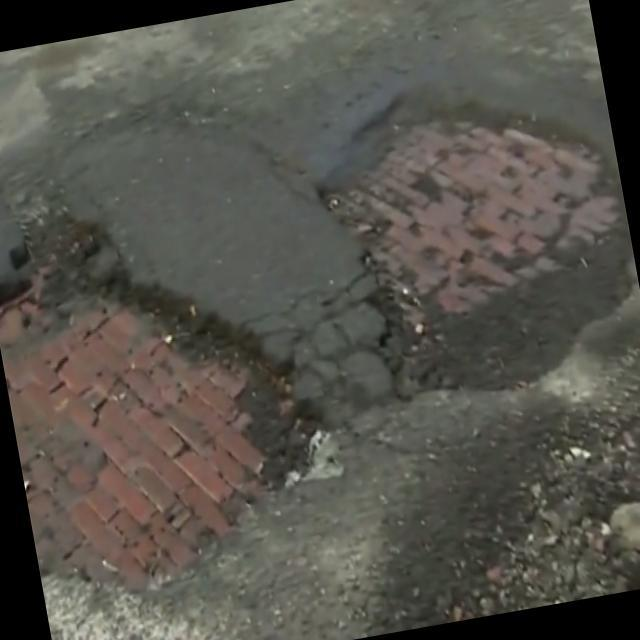Pothole: (0, 187, 332, 592), (345, 75, 630, 318)
